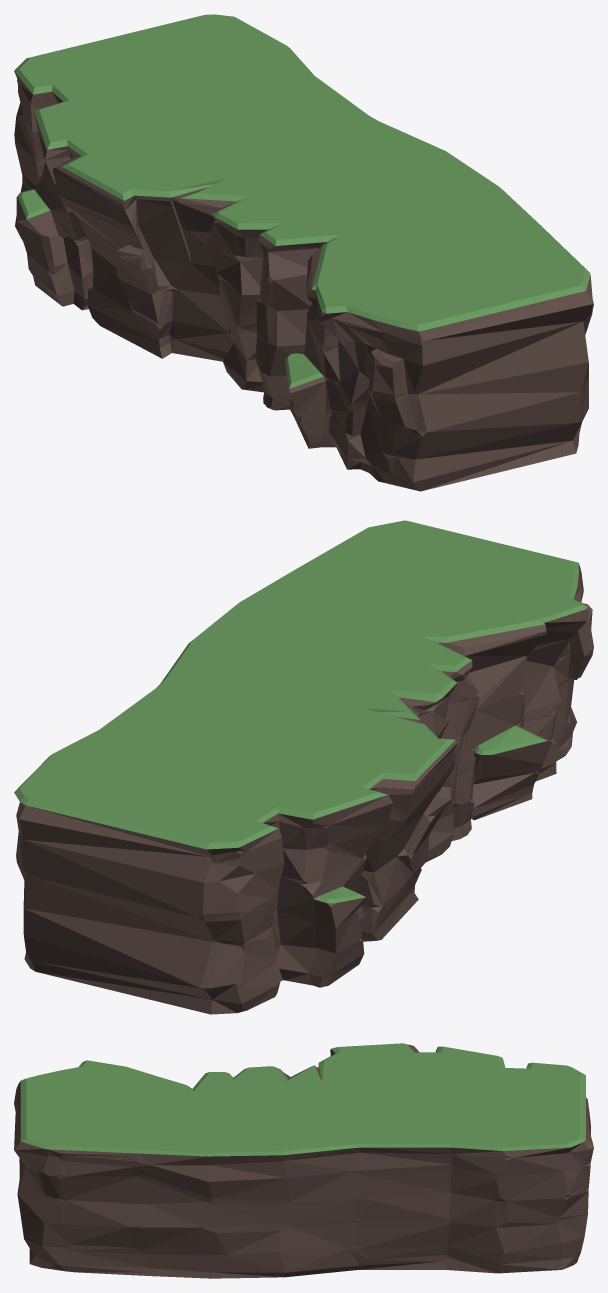
File: Cliff L 5.fbx
The picture shows the model from 3 angles, top to bottom: view 1: azimuth 30°, elevation 25°; view 2: azimuth 150°, elevation 25°; view 3: azimuth 270°, elevation 25°; orthographic projection. The views are drawn at different scales.
Parts seen in each view (by area): view 1: Cliff 15; view 2: Cliff 15; view 3: Cliff 15.
Boxes of the visible parts, bbox=[...] form: Cliff 15: bbox=[14, 14, 593, 491]; Cliff 15: bbox=[14, 520, 593, 1014]; Cliff 15: bbox=[14, 1043, 593, 1278].
Bounding box in the file's own units: 197 × 102 × 424.
